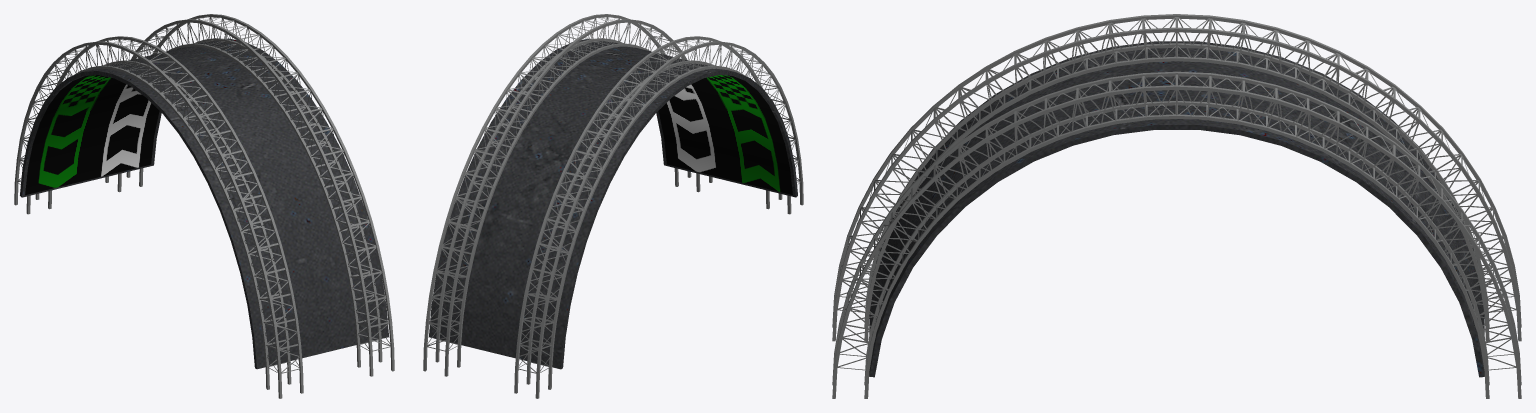
The model's file is Track_Decoration_2.fbx.
The picture shows the model from 3 angles, left to right: view 1: azimuth 30°, elevation 25°; view 2: azimuth 150°, elevation 25°; view 3: azimuth 270°, elevation 25°; orthographic projection. The views are drawn at different scales.
Parts seen in each view (by area): view 1: Track_Decoration 2; view 2: Track_Decoration 2; view 3: Track_Decoration 2.
Part boxes in pixels (x1,y1,x2,y2): Track_Decoration 2: (14, 14, 394, 398); Track_Decoration 2: (423, 14, 803, 398); Track_Decoration 2: (832, 14, 1521, 398).
Bounding box in the file's own units: 4.93 × 8.59 × 17.18.
